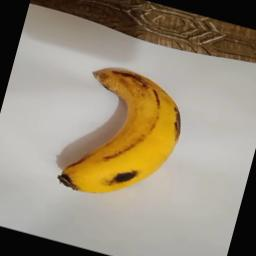Banana Unripe: (54, 56, 194, 214)
